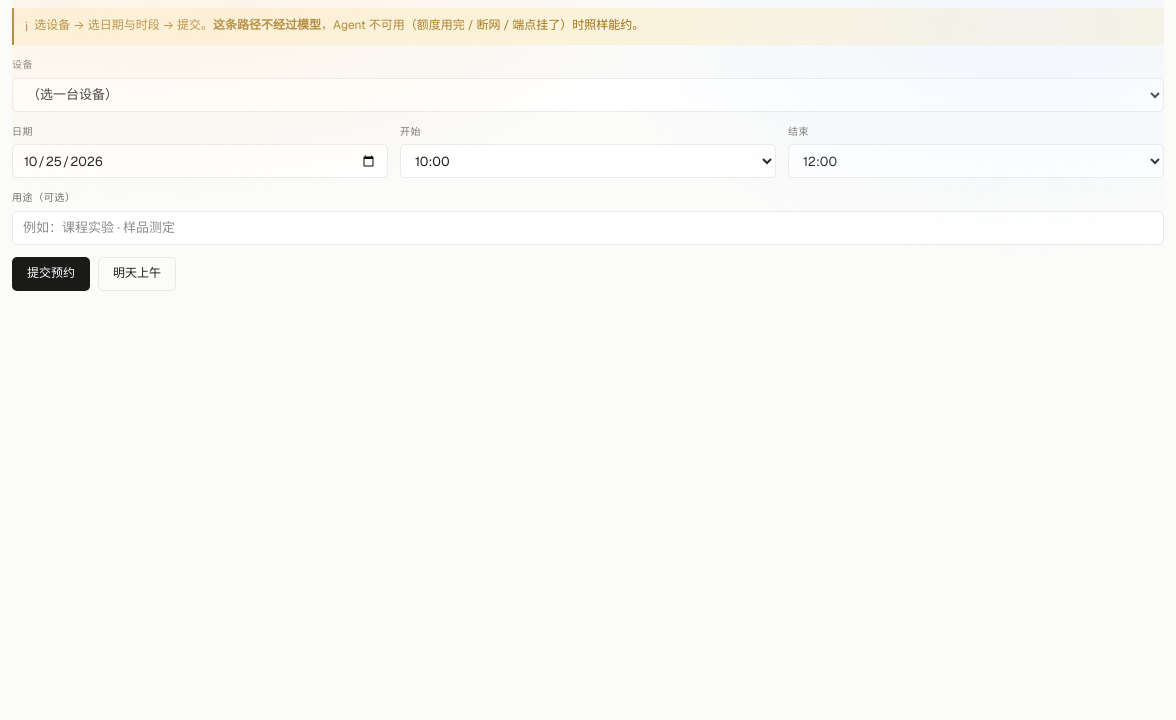
BookPane › 成功时显示的是 reservation 里的单号，不是笼统的 ok
Select "荧光光谱仪 · SPEC-F7000" in the dropdown labelled "设备": (588, 95) [12,78,1164,112]
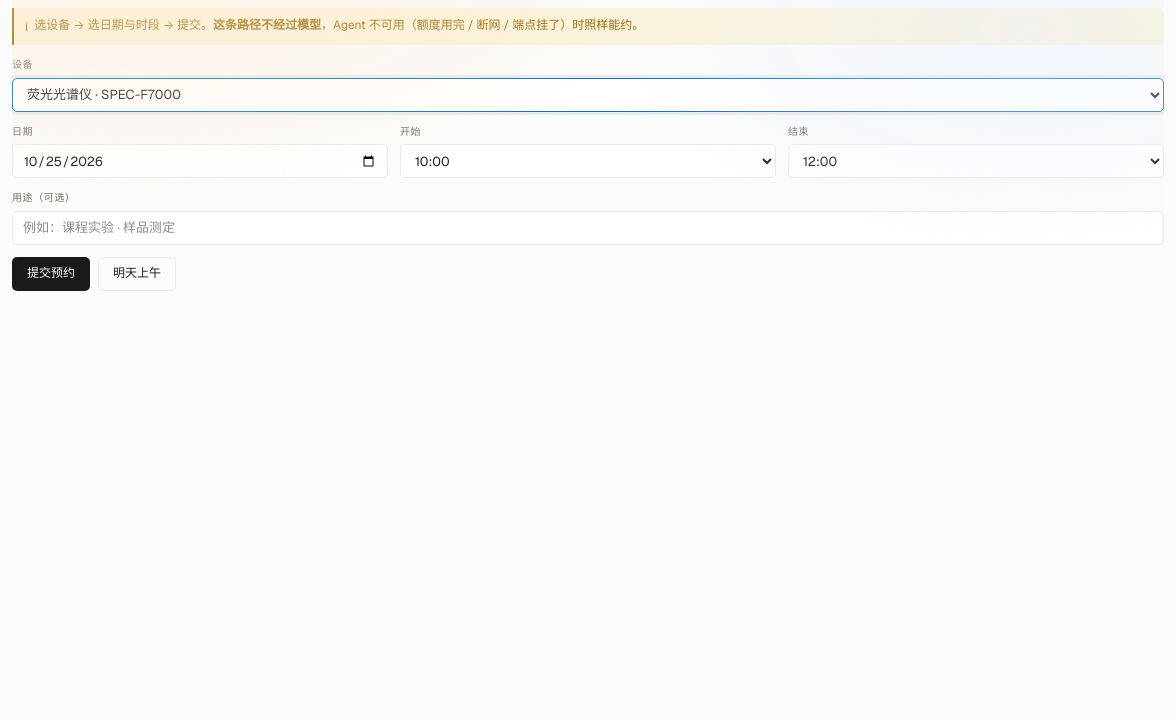
Click the button "提交预约": (51, 274) [12,257,90,291]
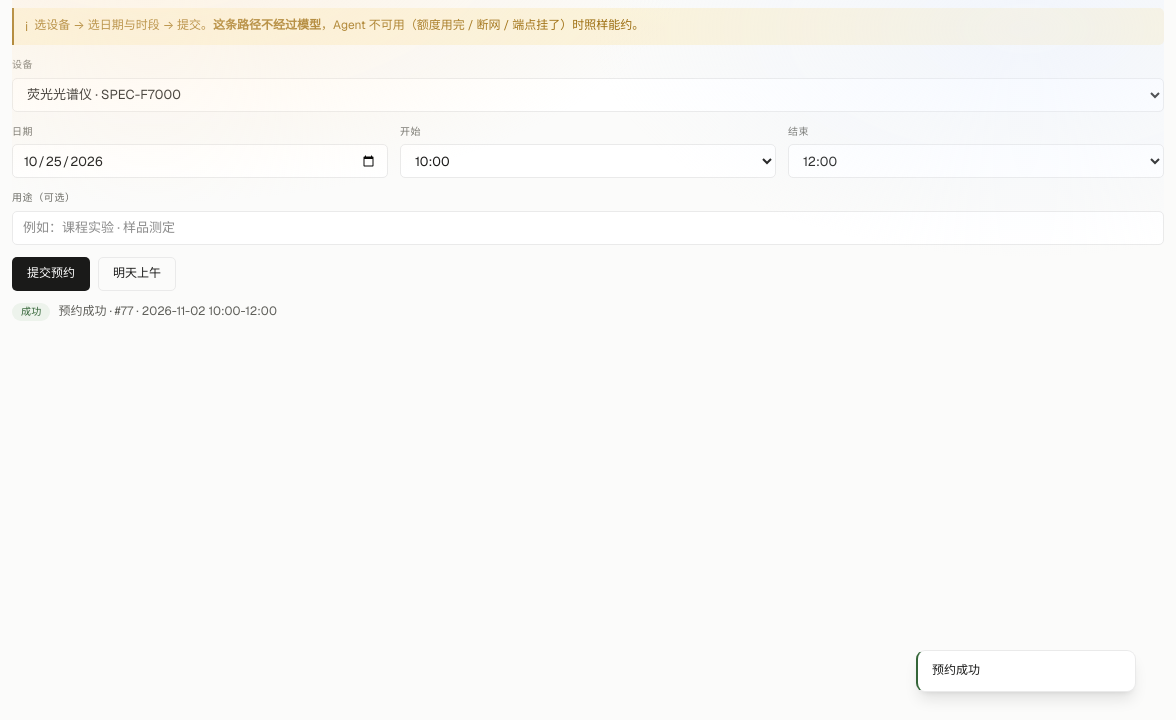
Now the text "预约成功 · #77 · 2026-11-02 10:00-12:00" is shown, box [58,303,277,320]
